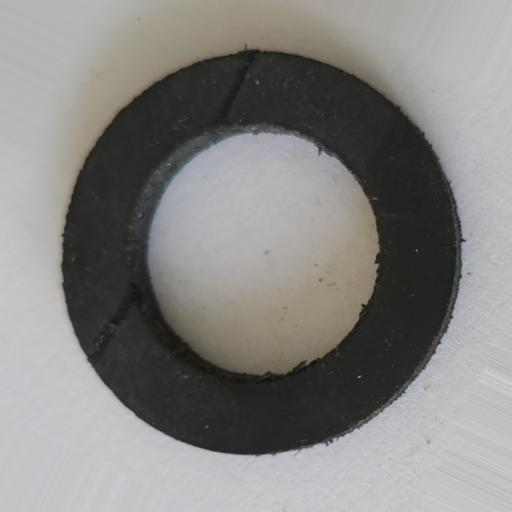defect: (87, 283, 140, 366), (214, 51, 258, 126)
